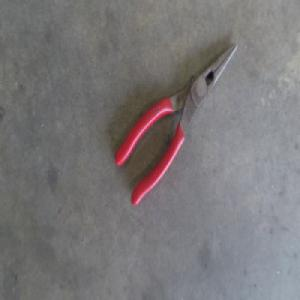Pliers: (114, 40, 239, 208)
